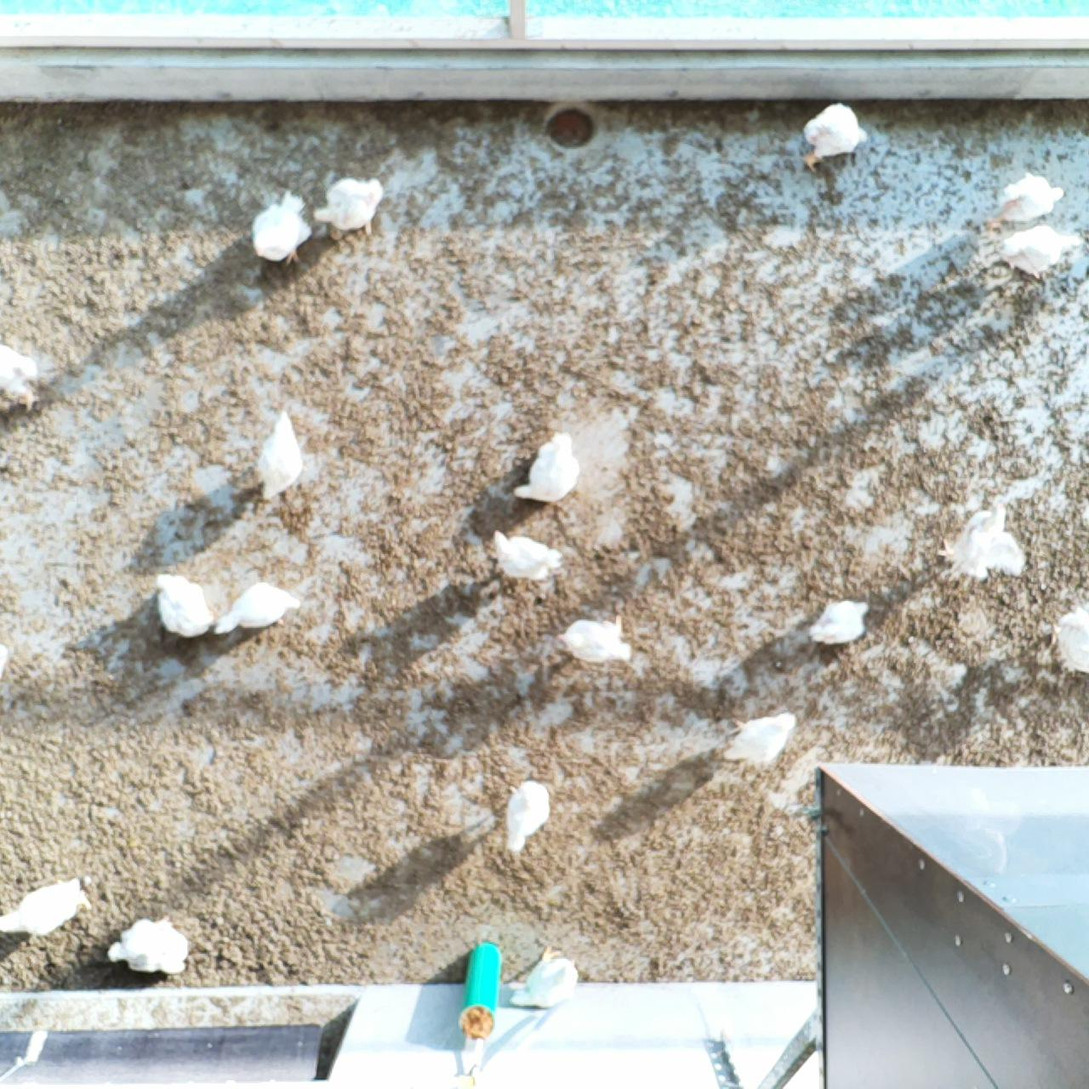chicken: (933, 496, 1030, 589), (102, 907, 194, 979), (0, 873, 93, 944), (794, 97, 873, 177), (511, 427, 589, 508), (244, 408, 306, 508), (213, 576, 304, 643), (981, 169, 1067, 237), (249, 185, 317, 271), (505, 942, 585, 1013), (996, 221, 1085, 282), (311, 172, 388, 242), (149, 568, 219, 642), (718, 710, 800, 772), (489, 528, 568, 588), (497, 775, 554, 858), (551, 613, 639, 666), (1044, 597, 1089, 681), (0, 338, 46, 419), (802, 596, 871, 648)
